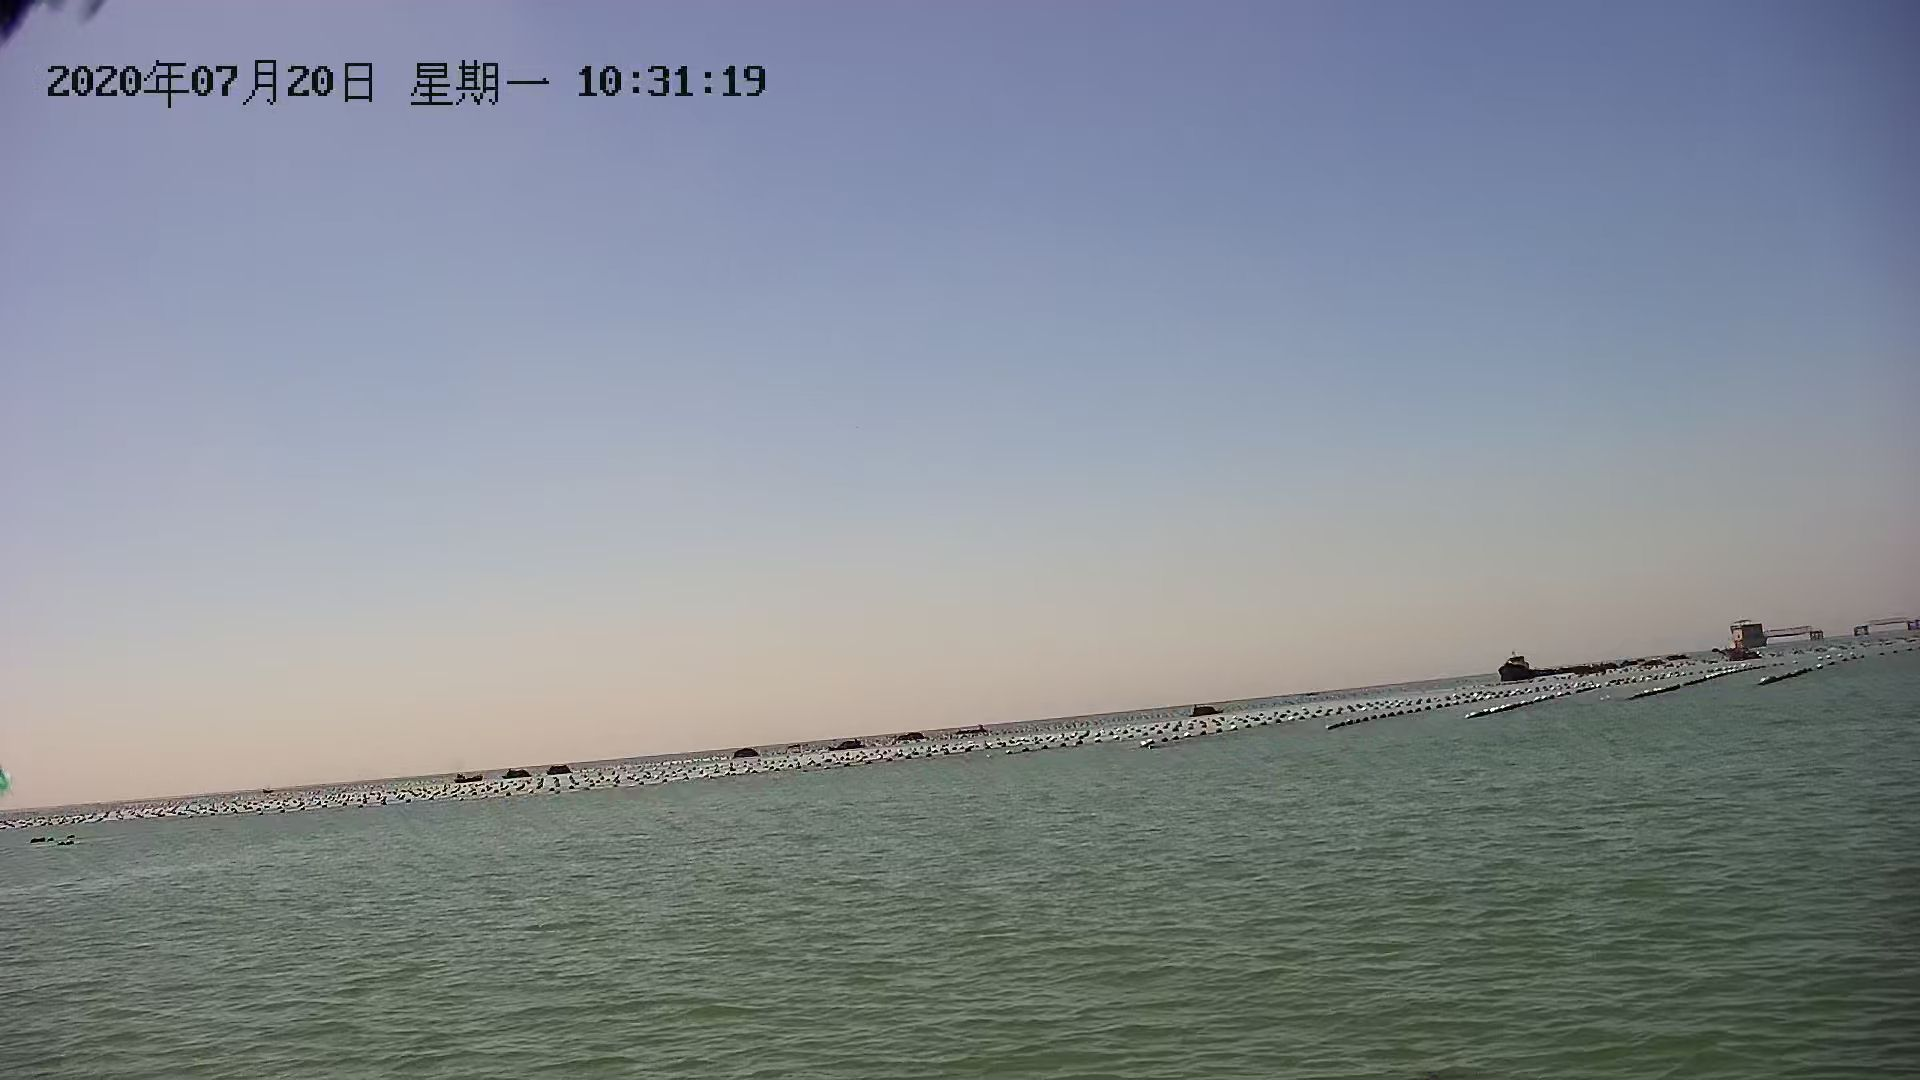ship: (1491, 649, 1549, 680)
